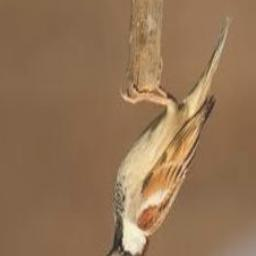Sparrow: (103, 14, 232, 256)
